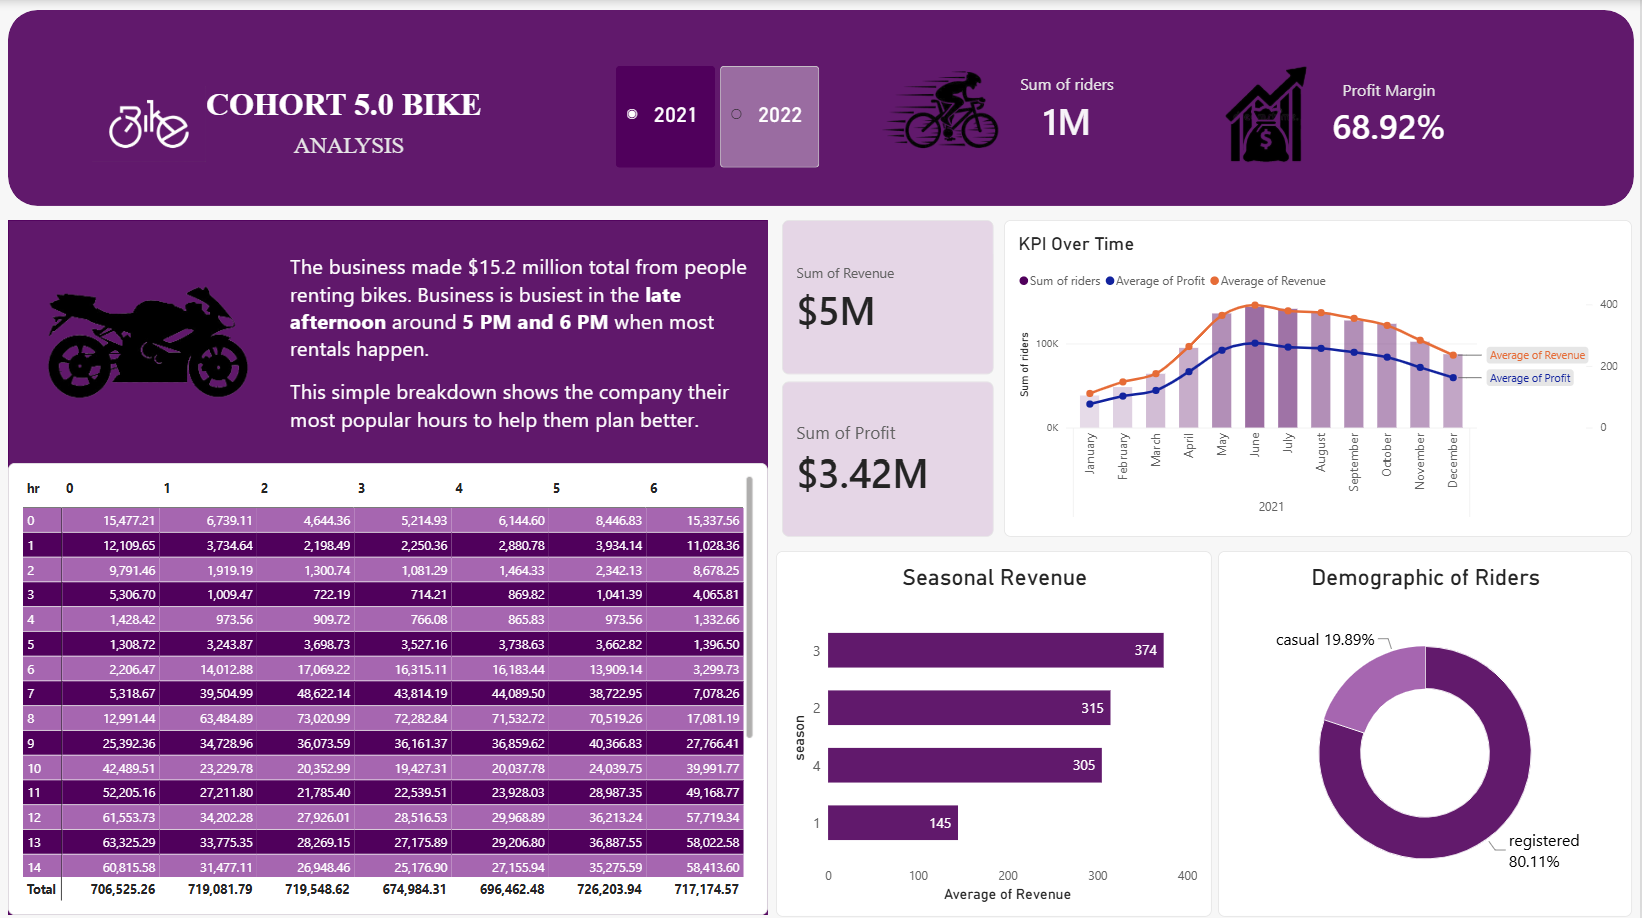

Layout of this report page (visuals, bound fields, positions):
{"tool":"powerbi","page":{"name":"Page 1","canvas":[1920,1080],"ordinal":0},"visuals":[{"type":"shape","box":[9.4,11.7,1904.6,229.6],"z":0},{"type":"shape","box":[9.4,257.7,890.2,812.9],"z":1000},{"type":"pivotTable","fields":{"Columns":["Query.weekday"],"Rows":["Query.hr"],"Values":["Sum(Query.Revenue)"]},"box":[9.4,541.2,890.2,529.5],"z":2000},{"type":"cardVisual","fields":{"Data":["Sum(Query.Revenue)","Sum(Query.Profit)"]},"box":[916,257.7,248.3,370.2],"z":3000},{"type":"barChart","title":"Seasonal Revenue","fields":{"Category":["Query.season"],"Y":["Avg(Query.Revenue)"]},"box":[909,644.3,510.7,428.7],"z":4000},{"type":"donutChart","title":"Demographic of Riders","fields":{"Category":["Query.rider_type"],"Y":["Sum(Query.riders)"]},"box":[1426.7,644.3,484.9,428.7],"z":5000},{"type":"lineClusteredColumnComboChart","title":"KPI Over Time","fields":{"Category":["Query.dteday.Variation.Date Hierarchy.Year","Query.dteday.Variation.Date Hierarchy.Month","Query.dteday.Variation.Date Hierarchy.Day"],"Y":["Sum(Query.riders)"],"Y2":["Avg(Query.Profit)","Avg(Query.Revenue)"]},"box":[1176.1,257.7,735.6,370.2],"z":6000},{"type":"textbox","box":[339.7,295.2,538.8,210.8],"z":7000},{"type":"cardVisual","fields":{"Data":["Sum(Query.riders)"]},"box":[1164.3,42.2,171,171],"z":8000},{"type":"cardVisual","fields":{"Data":["Query.Profit Margin"]},"box":[1543.9,53.9,166.3,159.3],"z":9000},{"type":"image","box":[1009.7,39.8,182.7,178],"z":10000},{"type":"image","box":[53.9,274.1,239,253],"z":11000},{"type":"image","box":[1382.2,44.5,201.5,178],"z":12000},{"type":"image","box":[107.8,77.3,133.5,135.9],"z":12001},{"type":"textbox","box":[241.3,100.7,332.7,51.5],"z":12002},{"type":"textbox","box":[325.6,154.6,166.3,35.1],"z":12003},{"type":"advancedSlicerVisual","fields":{"Values":["Query.yr"]},"box":[721.6,77.3,239,119.5],"z":12004}]}

Visuals, with their boxes in screenshot pixels (x1, y1, x2, y2), scaled from the page's 1920x1080 canvas onto the 1642x918 screenshot:
shape: [8, 10, 1637, 205]
shape: [8, 219, 769, 910]
pivotTable - Query.weekday x Query.hr: [8, 460, 769, 910]
cardVisual - Sum(Query.Revenue) x Sum(Query.Profit): [783, 219, 996, 534]
"Seasonal Revenue" barChart: [777, 548, 1214, 912]
"Demographic of Riders" donutChart: [1220, 548, 1635, 912]
"KPI Over Time" lineClusteredColumnComboChart: [1006, 219, 1635, 534]
textbox: [291, 251, 751, 430]
cardVisual - Sum(Query.riders): [996, 36, 1142, 181]
cardVisual - Query.Profit Margin: [1320, 46, 1463, 181]
image: [864, 34, 1020, 185]
image: [46, 233, 250, 448]
image: [1182, 38, 1354, 189]
image: [92, 66, 206, 181]
textbox: [206, 86, 491, 129]
textbox: [278, 131, 421, 161]
advancedSlicerVisual - Query.yr: [617, 66, 822, 167]
